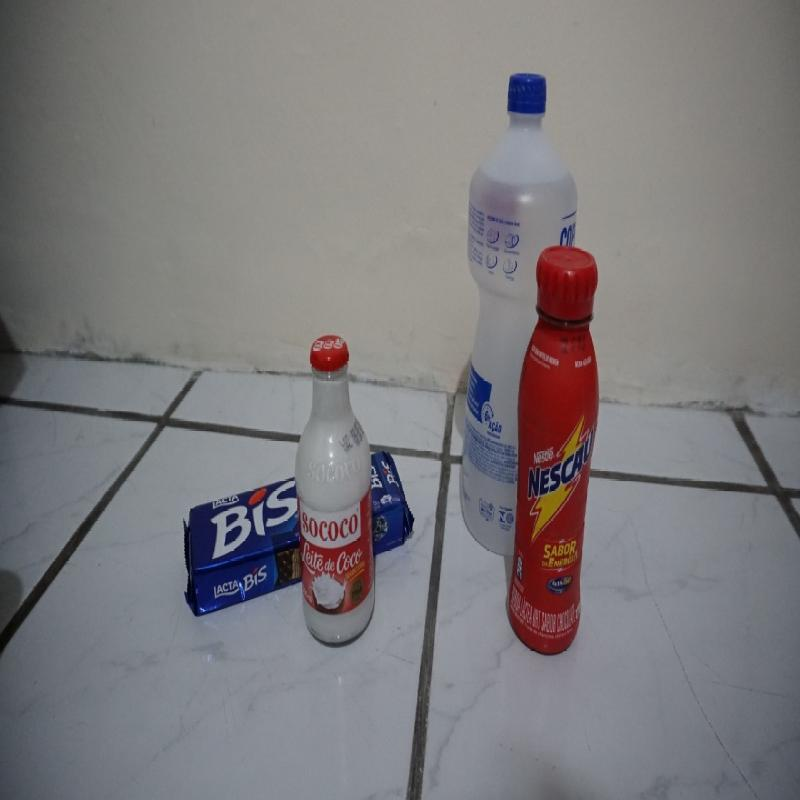Alcohol Bottle: (461, 70, 578, 561)
Chocolate Milk: (506, 245, 600, 655)
Coconut Milk: (293, 331, 380, 648)
